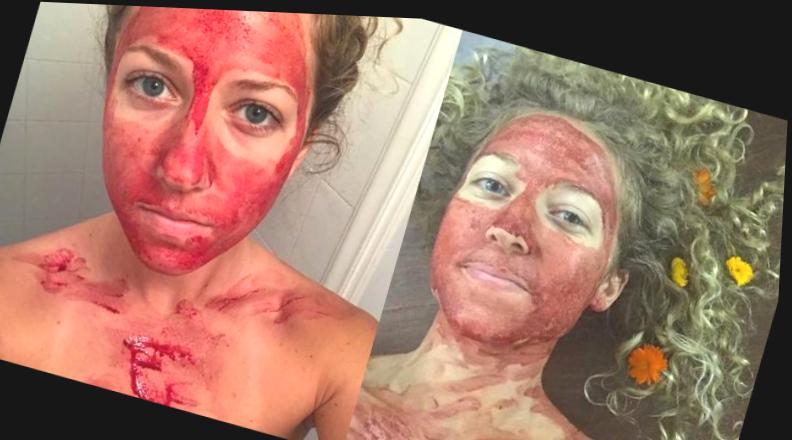Fire: (3, 5, 373, 412), (351, 107, 624, 440)
